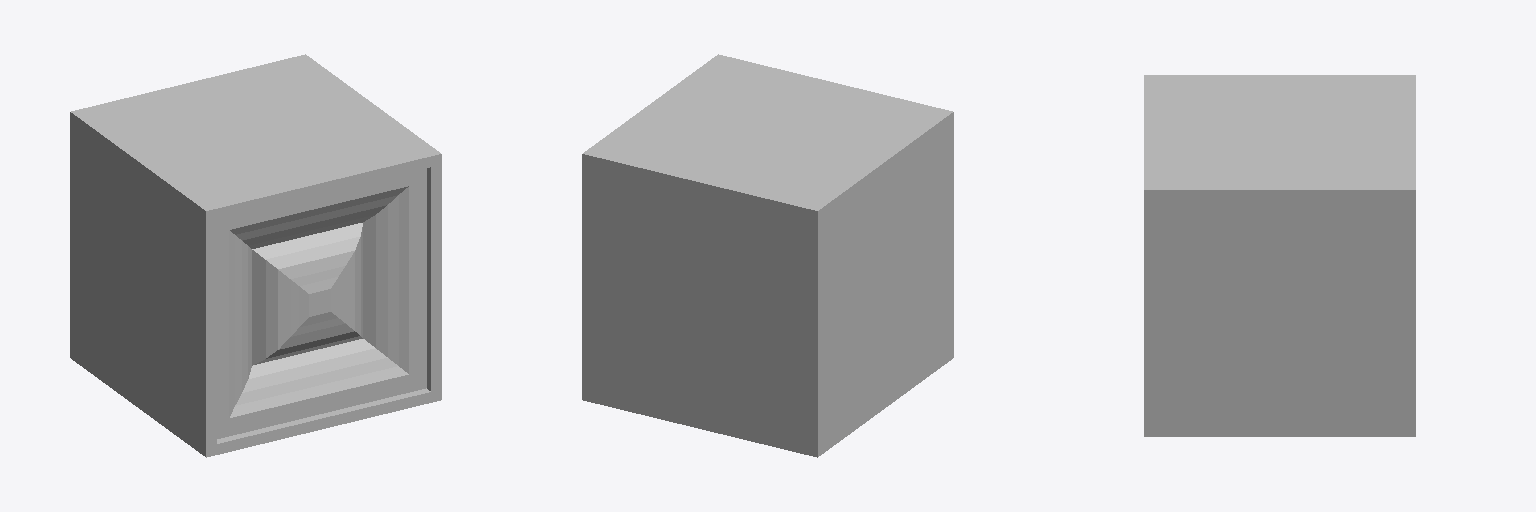
The model's file is Speaker_Mini.obj.
3 views of the same model, side by side, from view 1: azimuth 30°, elevation 25°; view 2: azimuth 150°, elevation 25°; view 3: azimuth 270°, elevation 25° (orthographic).
Parts seen in each view (by area): view 1: Cube; view 2: Cube; view 3: Cube.
Part boxes in pixels (left/top/right/bottom): Cube: left=70, top=54, right=441, bottom=457; Cube: left=582, top=54, right=953, bottom=457; Cube: left=1144, top=75, right=1415, bottom=436.
Size of the model in its own units: 1 by 1 by 1.